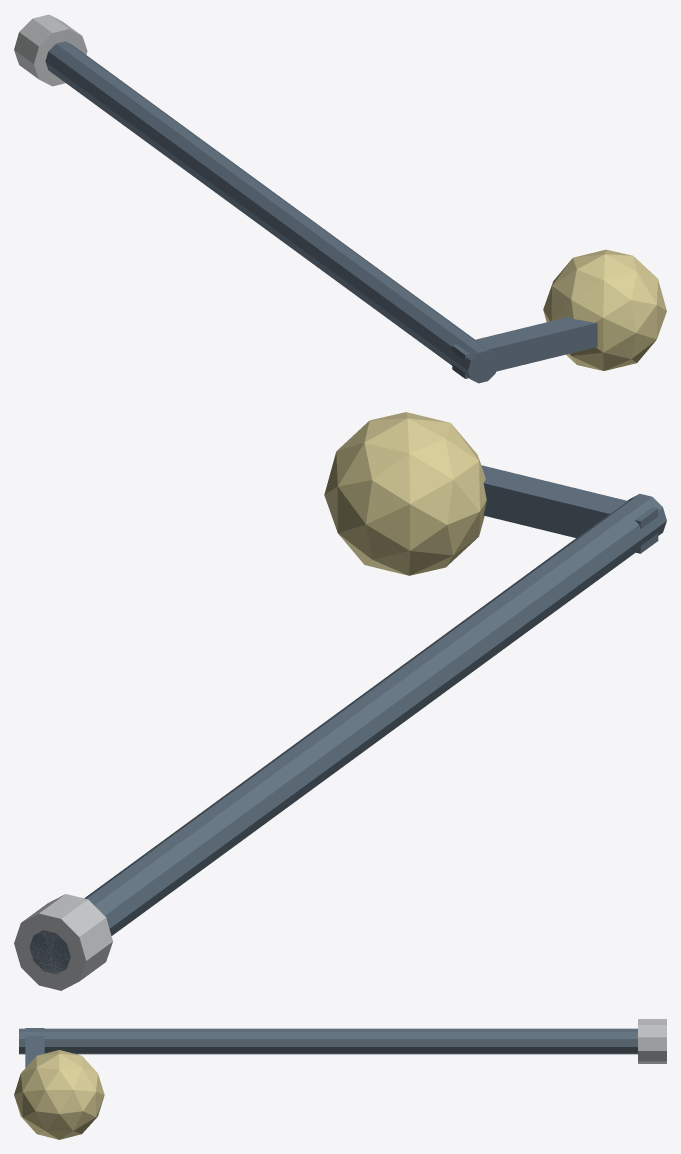
The model's file is street-lamp.glb.
3 views of the same model, one above another, from view 1: azimuth 30°, elevation 25°; view 2: azimuth 150°, elevation 25°; view 3: azimuth 270°, elevation 25° (orthographic). The views are drawn at different scales.
Parts seen in each view (by area): view 1: world; view 2: world; view 3: world.
Part boxes in pixels (x1,y1,x2,y2): world: (14,14,666,383); world: (14,412,666,990); world: (14,1019,666,1139).
Bounding box in the file's own units: 1.2 × 0.56 × 4.03.
